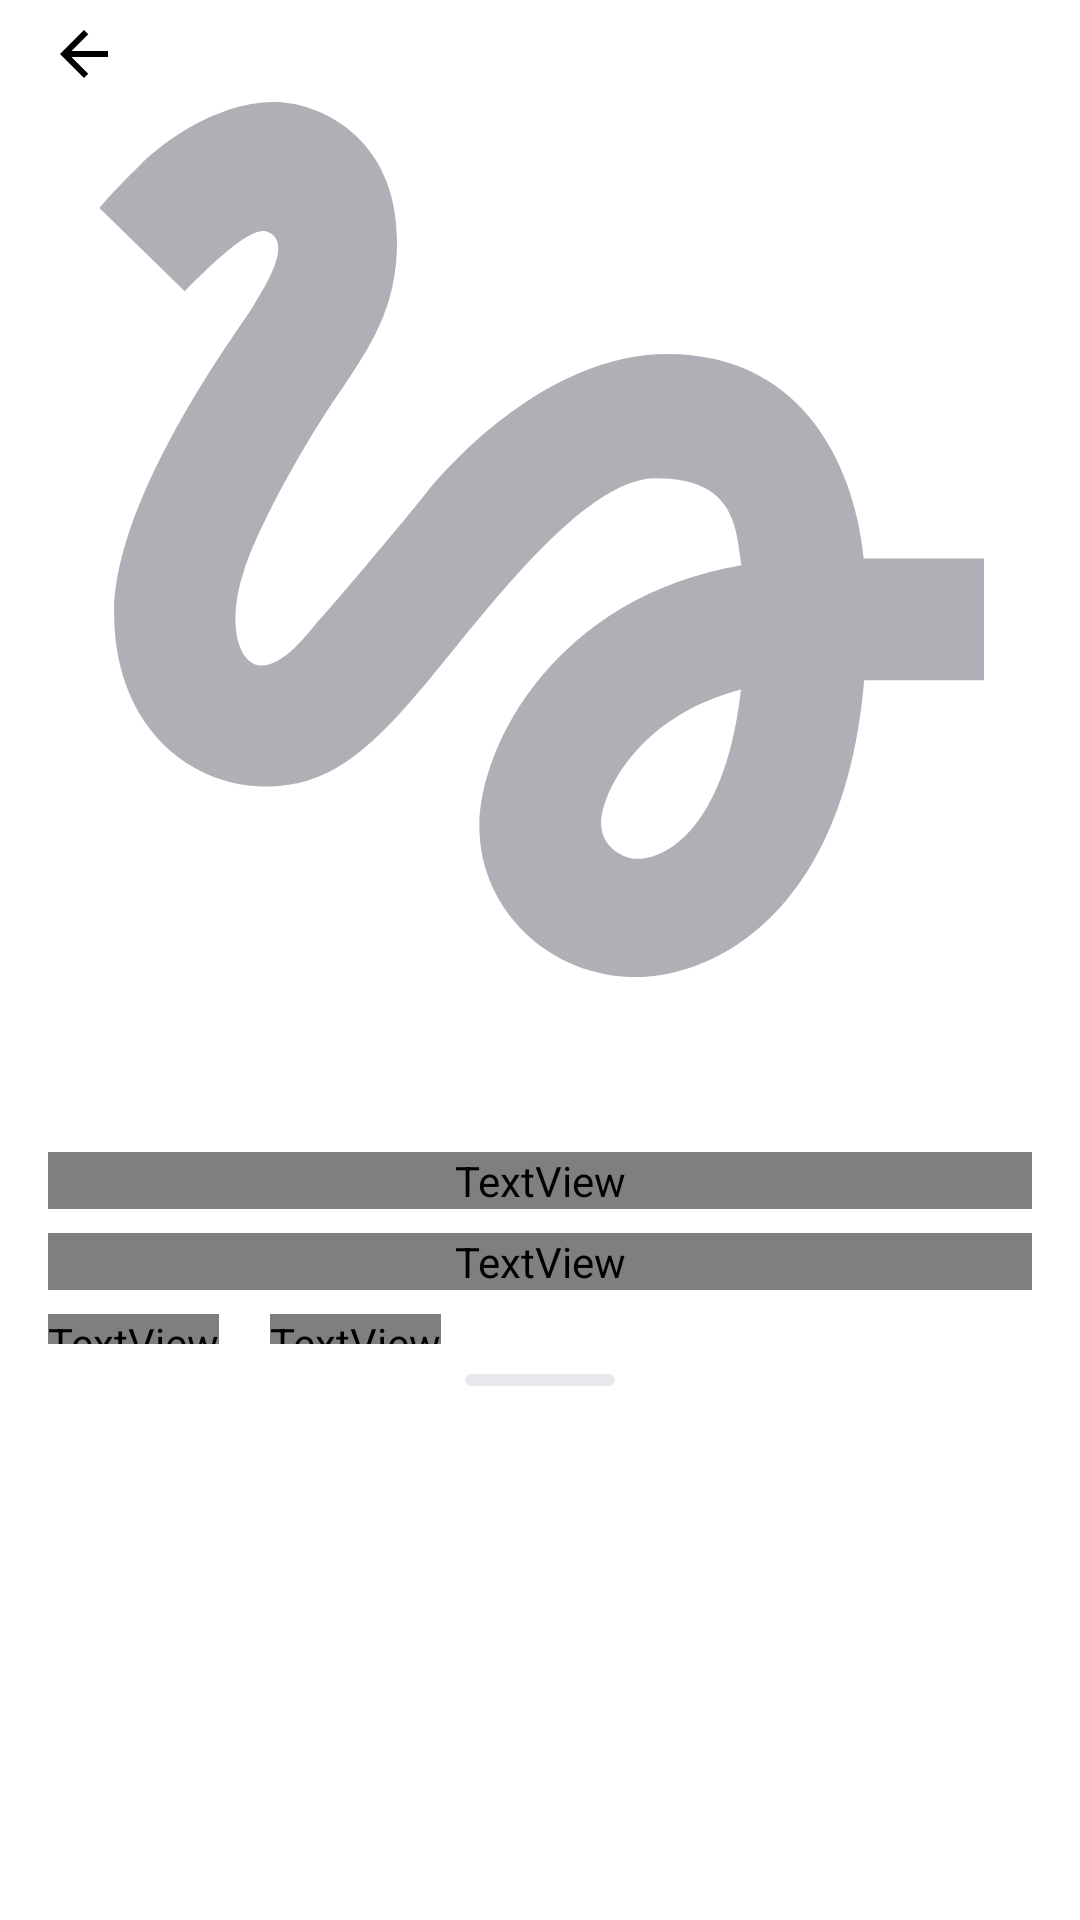

Where to tap for icons on this 1080w x 1920h app screen, as (x=x, y=y):
back: (x=84, y=54)
